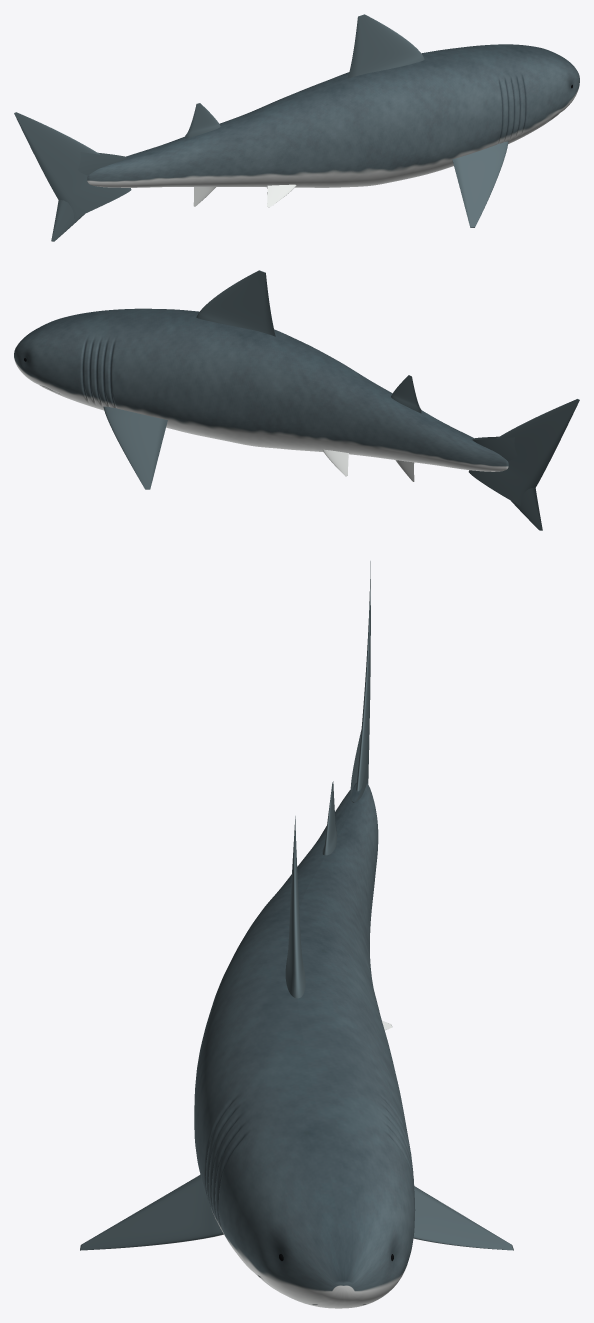
The model's file is bull_shark.glb.
3 renders of one model, top to bottom at view 1: azimuth 30°, elevation 25°; view 2: azimuth 150°, elevation 25°; view 3: azimuth 270°, elevation 25°, orthographic. The views are drawn at different scales.
Visible parts, largest first — view 1: BullShark_Body, BullShark_Fins; view 2: BullShark_Body, BullShark_Fins; view 3: BullShark_Body, BullShark_Fins.
Part boxes in pixels (x1,y1,x2,y2): BullShark_Body: (87, 44, 579, 187); BullShark_Fins: (14, 14, 508, 241); BullShark_Body: (14, 308, 508, 471); BullShark_Fins: (103, 270, 579, 530); BullShark_Body: (194, 783, 415, 1308); BullShark_Fins: (80, 561, 513, 1250).
Size of the model in its own units: 2.4 by 0.7744 by 0.811.
Materials: 3 (1 with a texture image).
